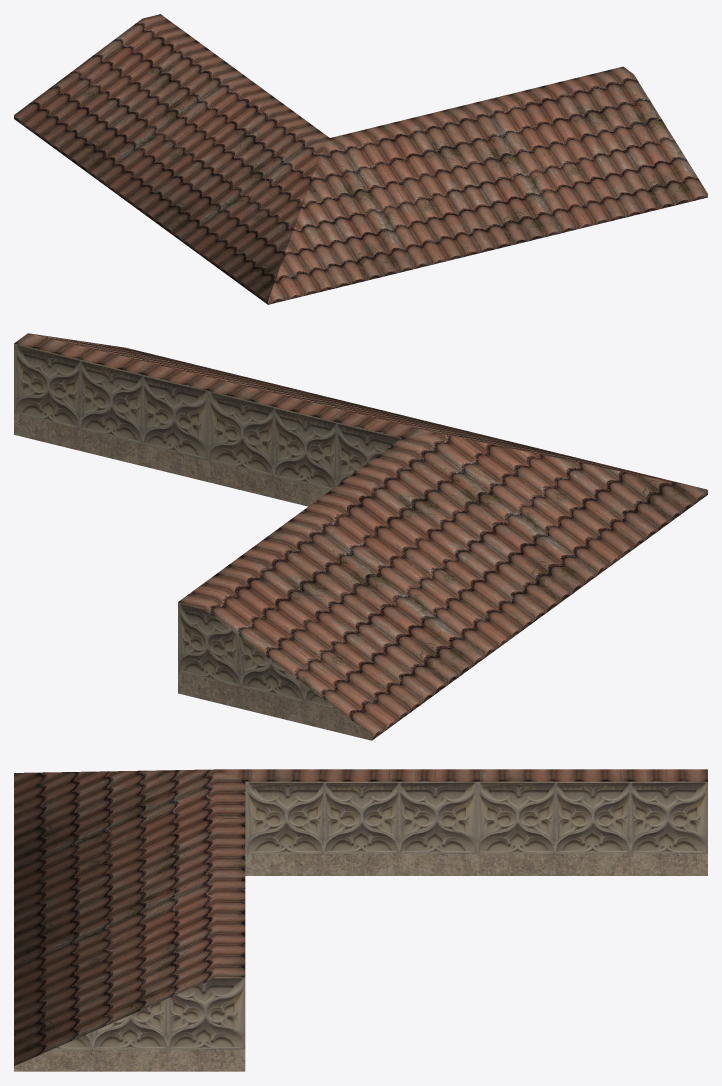
The model's file is SH3D_Sparta_Roof6.obj.
3 views of the same model, one above another, from view 1: azimuth 30°, elevation 25°; view 2: azimuth 150°, elevation 25°; view 3: azimuth 270°, elevation 25° (orthographic). The views are drawn at different scales.
Parts seen in each view (by area): view 1: Base_TileRoof0; view 2: Base_TileRoof0, Base_RoofTrim0; view 3: Base_TileRoof0, Base_RoofTrim0.
Part boxes in pixels (left/top/right/bottom): Base_TileRoof0: left=14, top=14, right=707, bottom=304; Base_TileRoof0: left=14, top=333, right=707, bottom=740; Base_RoofTrim0: left=14, top=343, right=401, bottom=740; Base_TileRoof0: left=14, top=769, right=707, bottom=1065; Base_RoofTrim0: left=14, top=781, right=707, bottom=1071.
Bounding box in the file's own units: 6 × 0.9002 × 6.
Materials: 3 (3 with a texture image).
